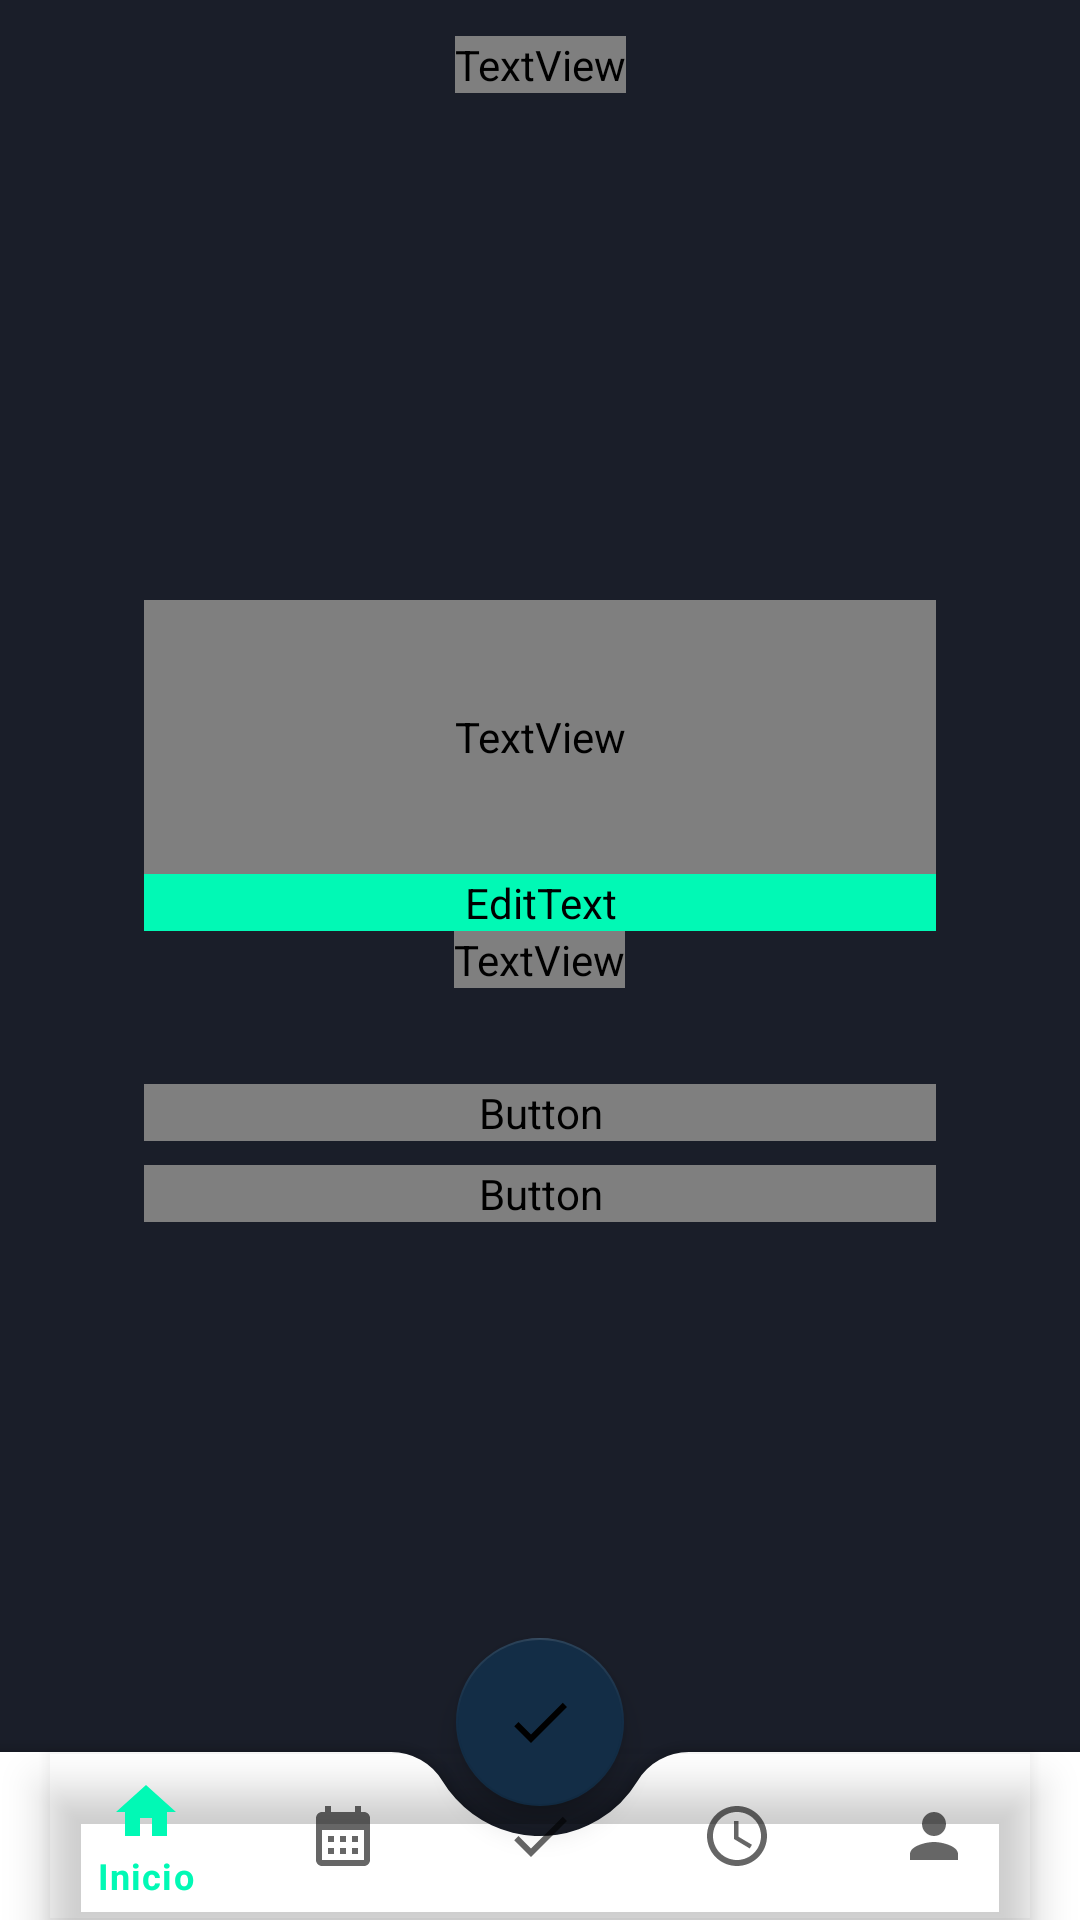

Icon click points for this 1080px x 1920px phone screenshot, format (x,y):
check: (540,1752)
